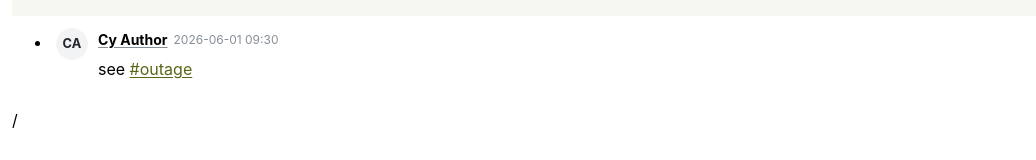
Test: MessageItem › clicking a hashtag navigates inside the app, to the thread with the filter in the URL
Click the link "#outage" at (161, 69), box [130,59,192,79]
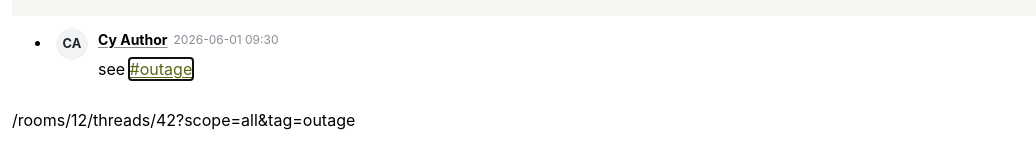
Now the text named "where" reads "/rooms/12/threads/42?scope=all&tag=outage", box [12,110,355,130]
